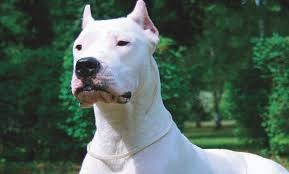dog: (67, 1, 286, 174)
